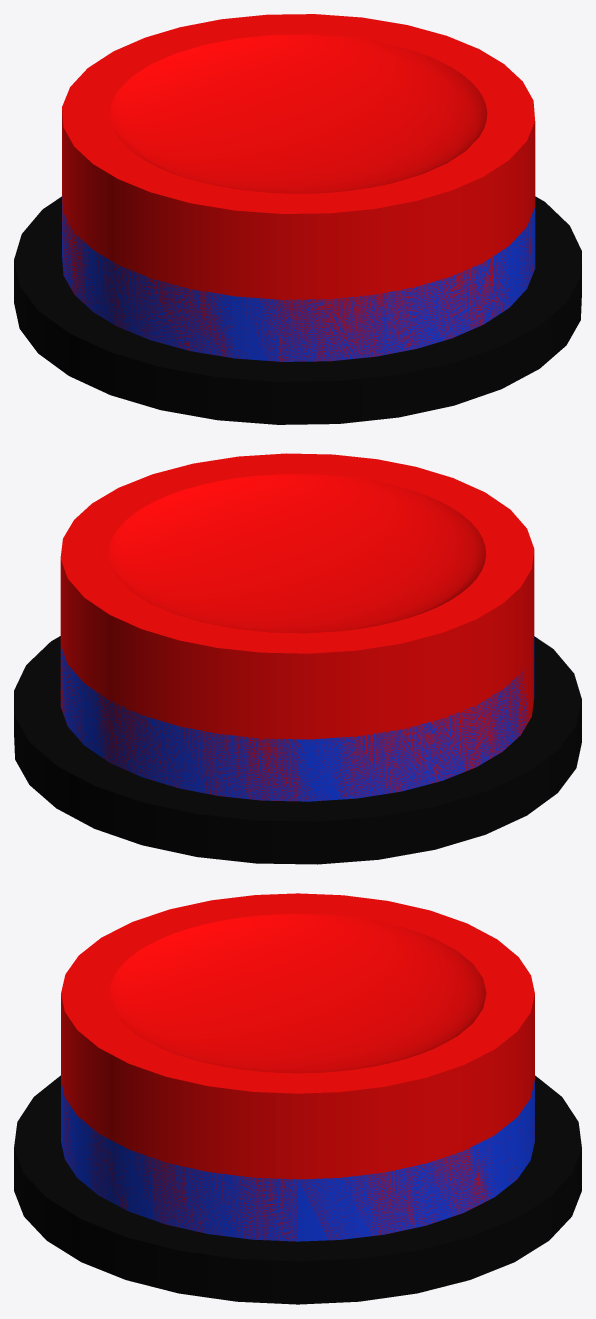
The model's file is button.fbx.
3 renders of one model, top to bottom at view 1: azimuth 30°, elevation 25°; view 2: azimuth 150°, elevation 25°; view 3: azimuth 270°, elevation 25°, orthographic.
Visible parts, largest first — view 1: Button_Off, Base_2, Button_On; view 2: Button_Off, Base_2, Button_On; view 3: Button_Off, Base_2, Button_On.
Boxes of the visible parts, bbox=[...] form: Button_Off: bbox=[62, 14, 535, 361]; Base_2: bbox=[14, 196, 581, 424]; Button_On: bbox=[62, 196, 535, 361]; Button_Off: bbox=[60, 453, 534, 801]; Base_2: bbox=[14, 636, 581, 864]; Button_On: bbox=[60, 636, 534, 801]; Button_Off: bbox=[61, 893, 534, 1241]; Base_2: bbox=[14, 1075, 581, 1304]; Button_On: bbox=[61, 1080, 534, 1241].
Size of the model in its own units: 11.96 by 11.98 by 4.44.
